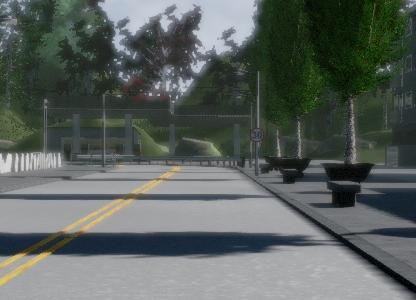Speed_30: (338, 81, 387, 130)
